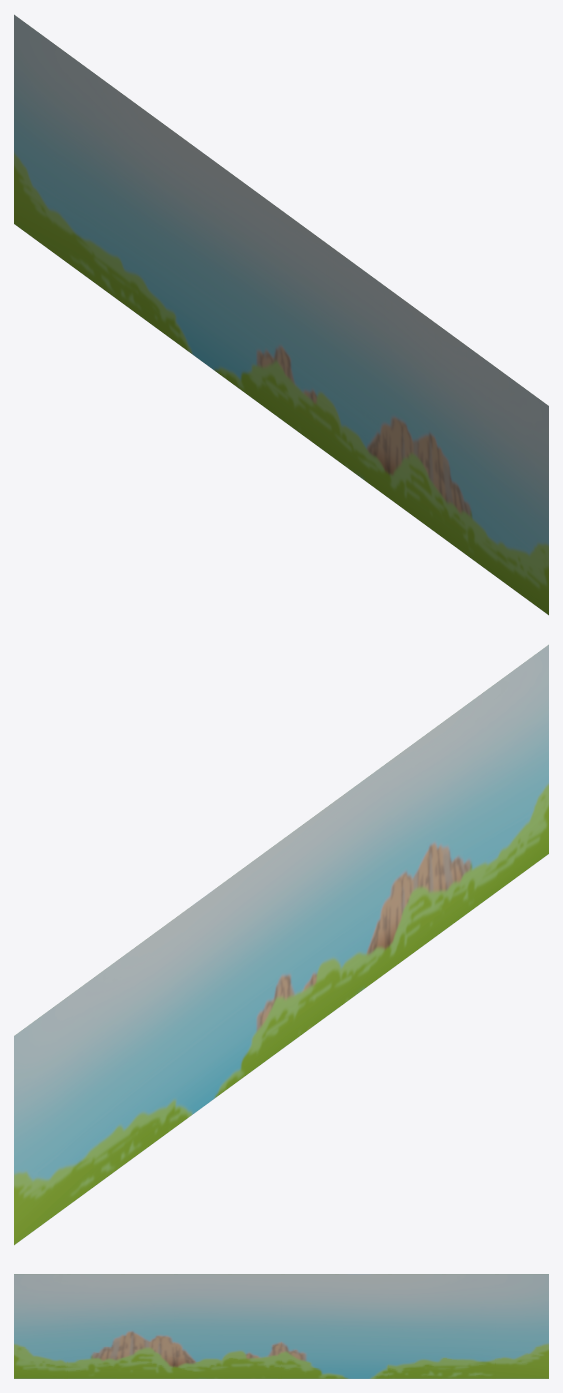
Rendered from background.fbx.
3 renders of one model, top to bottom at view 1: azimuth 30°, elevation 25°; view 2: azimuth 150°, elevation 25°; view 3: azimuth 270°, elevation 25°, orthographic. The views are drawn at different scales.
Visible parts, largest first — view 1: pPlane1; view 2: pPlane1; view 3: pPlane1.
Boxes of the visible parts, left/top/right/bottom form: pPlane1: left=14, top=14, right=548, bottom=615; pPlane1: left=14, top=644, right=548, bottom=1245; pPlane1: left=14, top=1274, right=548, bottom=1378.
Bounding box in the file's own units: 5.31e-13 × 6488 × 30036.
